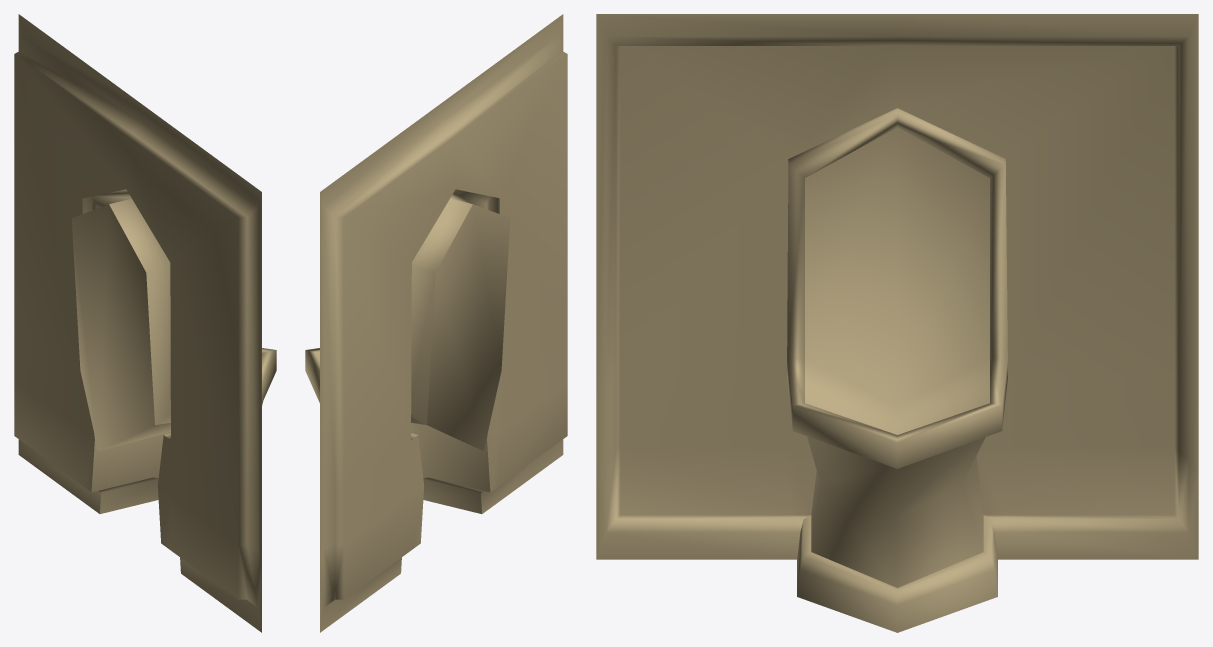
File: Maze_FontWall.fbx
The picture shows the model from 3 angles, left to right: view 1: azimuth 30°, elevation 25°; view 2: azimuth 150°, elevation 25°; view 3: azimuth 270°, elevation 25°; orthographic projection. The views are drawn at different scales.
Visible parts, largest first — view 1: pPlane5; view 2: pPlane5; view 3: pPlane5.
Part boxes in pixels (x1=…): pPlane5: x1=14, y1=14, x2=276, y2=632; pPlane5: x1=305, y1=14, x2=567, y2=632; pPlane5: x1=596, y1=14, x2=1198, y2=632.
Size of the model in its own units: 127 by 300 by 300.
